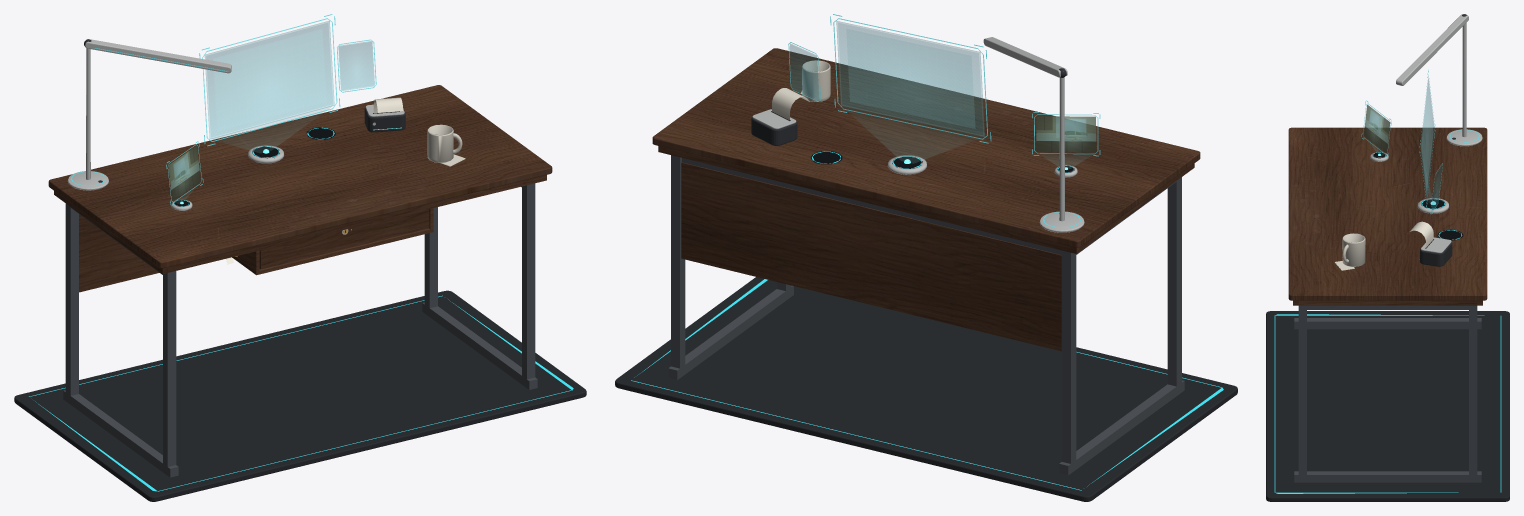
3 renders of one model, left to right at view 1: azimuth 30°, elevation 25°; view 2: azimuth 150°, elevation 25°; view 3: azimuth 270°, elevation 25°, orthographic. The views are drawn at different scales.
Parts seen in each view (by area): view 1: base_peca, tampo, monitor_holo_painel, monitor_area_texto, gaveta_frente, painel_traseiro, base_montante_frente_esq, base_montante_frente_dir, base_montante_tras_esq, tampo_borda_frente, base_patim_esq, base_patim_dir (+11 smaller); view 2: base_peca, tampo, painel_traseiro, monitor_holo_painel, base_montante_tras_esq, monitor_feixe, base_montante_frente_esq, tampo_borda_tras, base_montante_tras_dir, base_patim_esq, base_patim_dir, porta_retrato_foto (+9 smaller); view 3: base_peca, tampo, base_patim_dir, base_patim_esq, base_montante_frente_dir, base_montante_tras_dir, base_peca_linha, tampo_borda_direita, luminaria_barra, monitor_holo_painel, porta_retrato_foto, base_travessa_dir (+7 smaller).
Boxes of the visible parts, box(x1,y1,x2,y2) form: base_peca: box(14, 290, 586, 501); tampo: box(48, 85, 552, 268); monitor_holo_painel: box(205, 21, 334, 139); monitor_area_texto: box(214, 29, 325, 130); gaveta_frente: box(259, 209, 429, 269); painel_traseiro: box(79, 214, 159, 292); base_montante_frente_esq: box(163, 271, 176, 466); base_montante_frente_dir: box(522, 183, 535, 379); base_montante_tras_esq: box(65, 203, 78, 395); tampo_borda_frente: box(159, 175, 546, 273); base_patim_esq: box(63, 390, 178, 477); base_patim_dir: box(422, 302, 537, 389); base_peca: box(615, 277, 1237, 501); tampo: box(652, 48, 1200, 247); painel_traseiro: box(681, 162, 1061, 351); monitor_holo_painel: box(836, 21, 984, 136); base_montante_tras_esq: box(1061, 250, 1076, 463); monitor_feixe: box(843, 106, 981, 162); base_montante_frente_esq: box(1167, 177, 1181, 386); tampo_borda_tras: box(658, 146, 1079, 253); base_montante_tras_dir: box(671, 155, 685, 368); base_patim_esq: box(1059, 380, 1184, 475); base_patim_dir: box(668, 285, 793, 379); porta_retrato_foto: box(1036, 116, 1096, 152); base_peca: box(1266, 311, 1509, 501); tampo: box(1288, 127, 1487, 300); base_patim_dir: box(1294, 471, 1481, 482); base_patim_esq: box(1294, 318, 1481, 329); base_montante_frente_dir: box(1298, 305, 1306, 474); base_montante_tras_dir: box(1469, 305, 1477, 474); base_peca_linha: box(1274, 314, 1501, 493); tampo_borda_direita: box(1298, 300, 1477, 305); luminaria_barra: box(1396, 14, 1468, 85); monitor_holo_painel: box(1421, 77, 1434, 197); porta_retrato_foto: box(1363, 104, 1390, 153); base_travessa_dir: box(1307, 305, 1468, 309).
Bounding box in the file's own units: 1.56 × 1.25 × 0.86.
25 materials, 4 textured.
